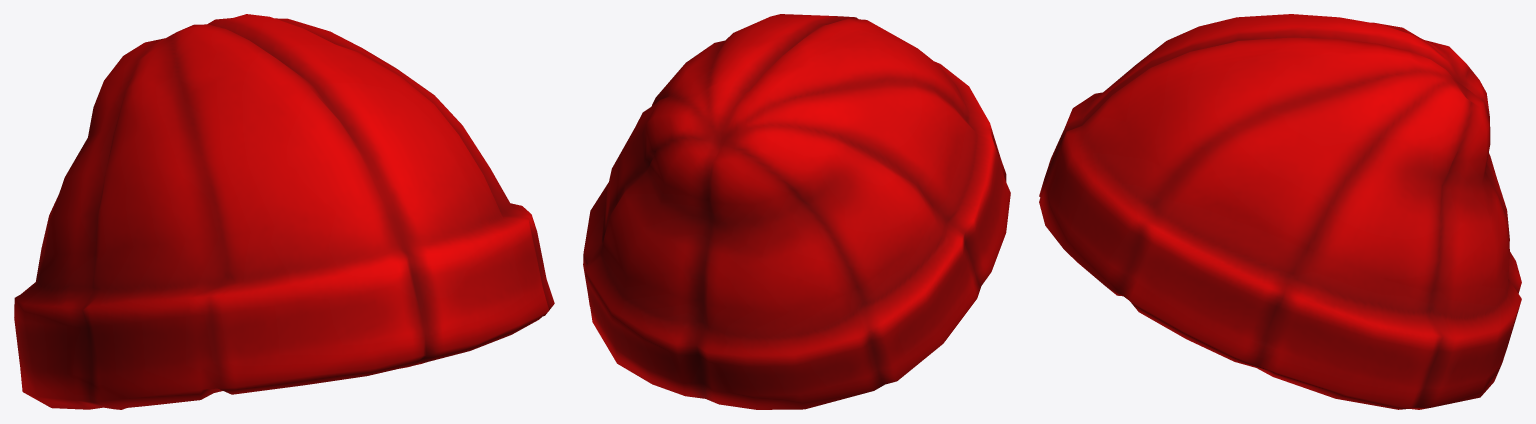
The model's file is BSMC_Outfit_Hat_Beanie.obj.
The picture shows the model from 3 angles, left to right: view 1: azimuth 30°, elevation 25°; view 2: azimuth 150°, elevation 25°; view 3: azimuth 270°, elevation 25°; orthographic projection. The views are drawn at different scales.
Parts seen in each view (by area): view 1: BSMC_Outfit_Hat_Beanie_0; view 2: BSMC_Outfit_Hat_Beanie_0; view 3: BSMC_Outfit_Hat_Beanie_0.
Boxes of the visible parts, x1,y1,x2,y2 form: BSMC_Outfit_Hat_Beanie_0: (14,14,554,409); BSMC_Outfit_Hat_Beanie_0: (583,14,1010,409); BSMC_Outfit_Hat_Beanie_0: (1039,14,1521,409).
Size of the model in its own units: 0.2328 by 0.1893 by 0.257.
1 material, 1 textured.
